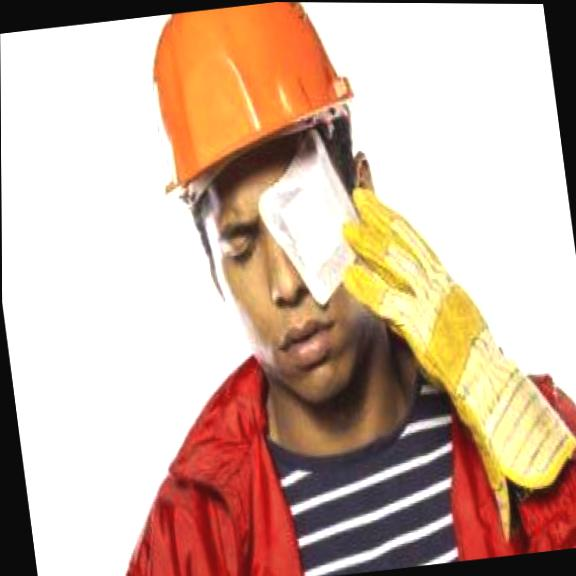no_safety_vest: (111, 313, 576, 576)
